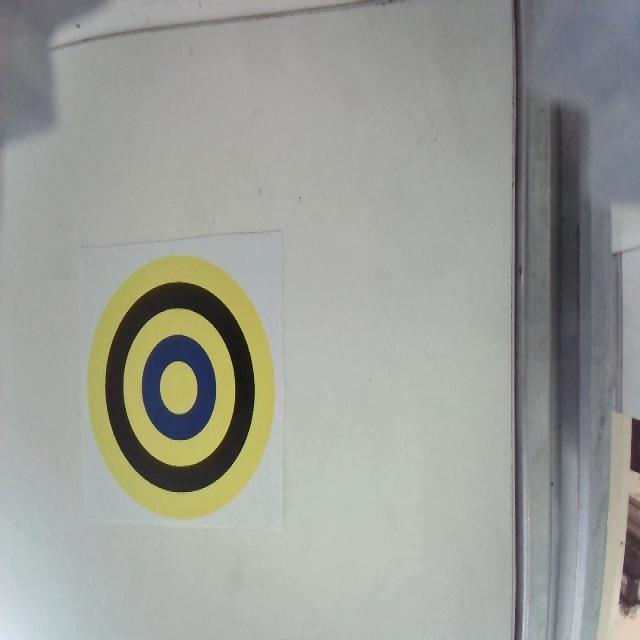cogn: (88, 252, 275, 518)
